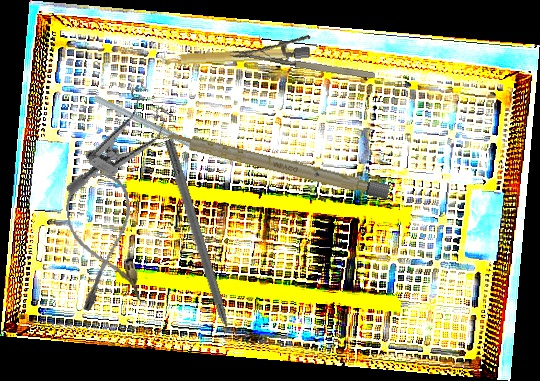Cannula: (61, 169, 144, 312)
Chopper: (92, 55, 230, 199)
Hook Surgical: (161, 138, 240, 357)
Needle Holder: (229, 21, 380, 84)
Scalpel Handle: (161, 129, 391, 200), (157, 46, 312, 66)
Speculum: (64, 74, 181, 220)
